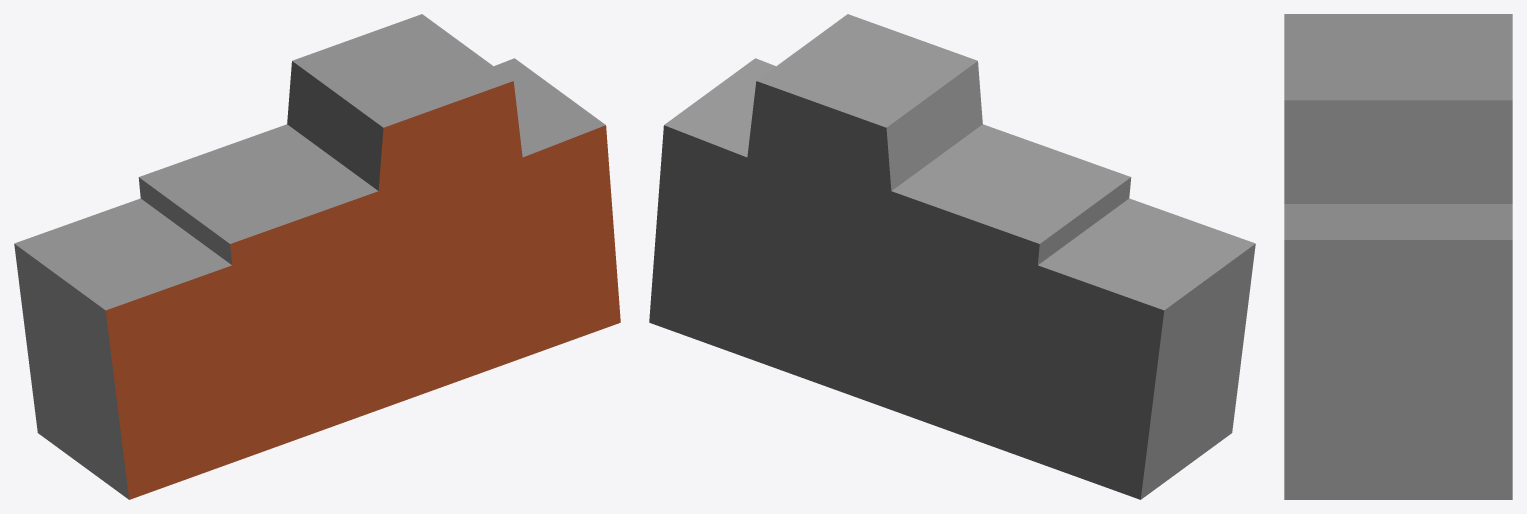
The model's file is construction_1314_assumed_A_Casa_h6m.obj.
The picture shows the model from 3 angles, left to right: view 1: azimuth 30°, elevation 25°; view 2: azimuth 150°, elevation 25°; view 3: azimuth 270°, elevation 25°; orthographic projection. The views are drawn at different scales.
Parts seen in each view (by area): view 1: construction_1314_assumed_A_Casa; view 2: construction_1314_assumed_A_Casa; view 3: construction_1314_assumed_A_Casa.
Part boxes in pixels (x1,y1,x2,y2): construction_1314_assumed_A_Casa: (14,14,620,499); construction_1314_assumed_A_Casa: (649,14,1255,499); construction_1314_assumed_A_Casa: (1284,14,1512,499).
Bounding box in the file's own units: 19.5 × 11.77 × 6.
